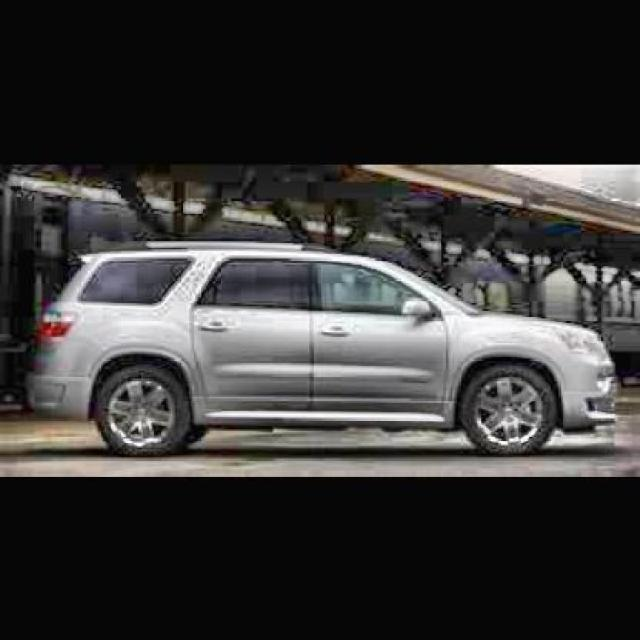silver: (26, 245, 616, 459)
